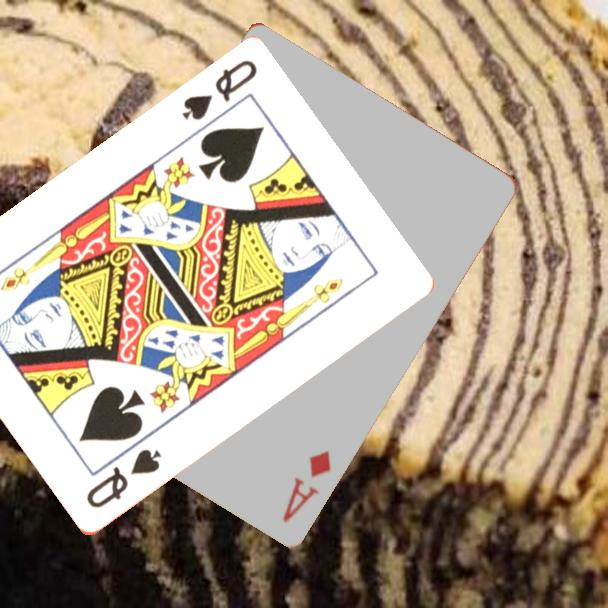d01: (279, 446, 334, 525)
s12: (177, 57, 261, 124), (82, 446, 164, 512)
